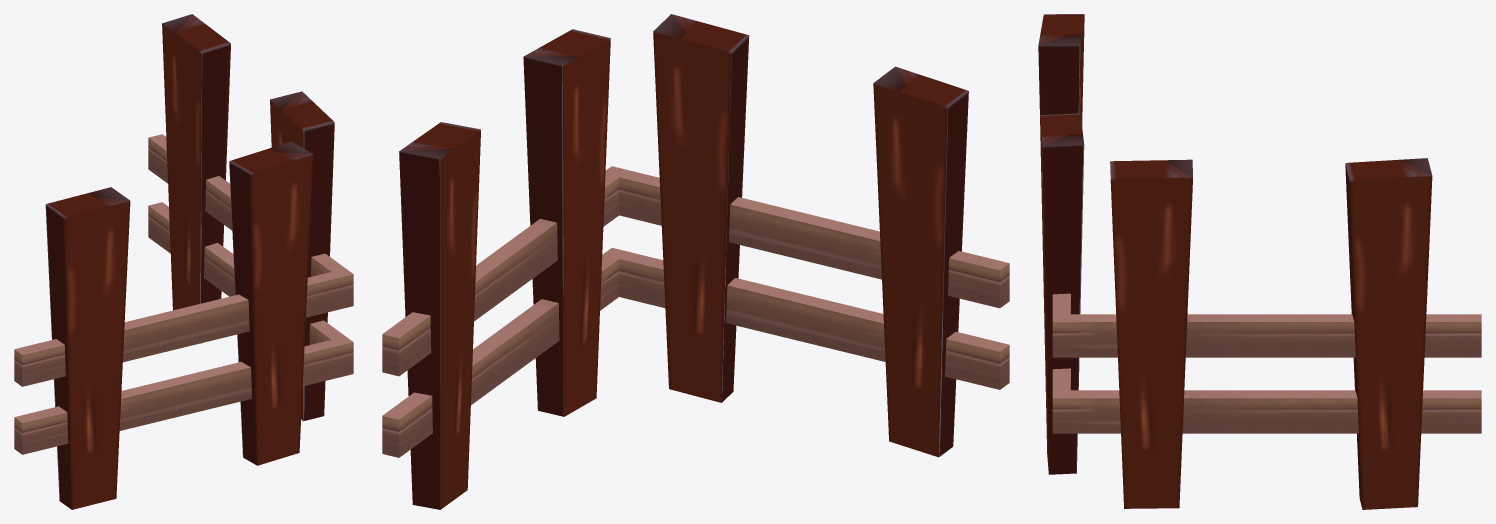
Rendered from fence_corner.gltf.
3 views of the same model, side by side, from view 1: azimuth 30°, elevation 25°; view 2: azimuth 150°, elevation 25°; view 3: azimuth 270°, elevation 25° (orthographic). The views are drawn at different scales.
Parts seen in each view (by area): view 1: FenceCornerMesh; view 2: FenceCornerMesh; view 3: FenceCornerMesh.
Boxes of the visible parts, <box> form: FenceCornerMesh: <box>14,14,353,509</box>; FenceCornerMesh: <box>382,14,1009,509</box>; FenceCornerMesh: <box>1038,14,1481,509</box>.
Size of what is drawn, in the model's own units: 1.06 by 0.883 by 1.06.
Materials: 1 (1 with a texture image).
